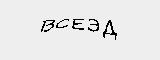В: (39, 17, 54, 34)
Д: (101, 19, 120, 40)
Е: (71, 17, 88, 32)
С: (54, 15, 70, 29)
Э: (86, 15, 100, 34)
